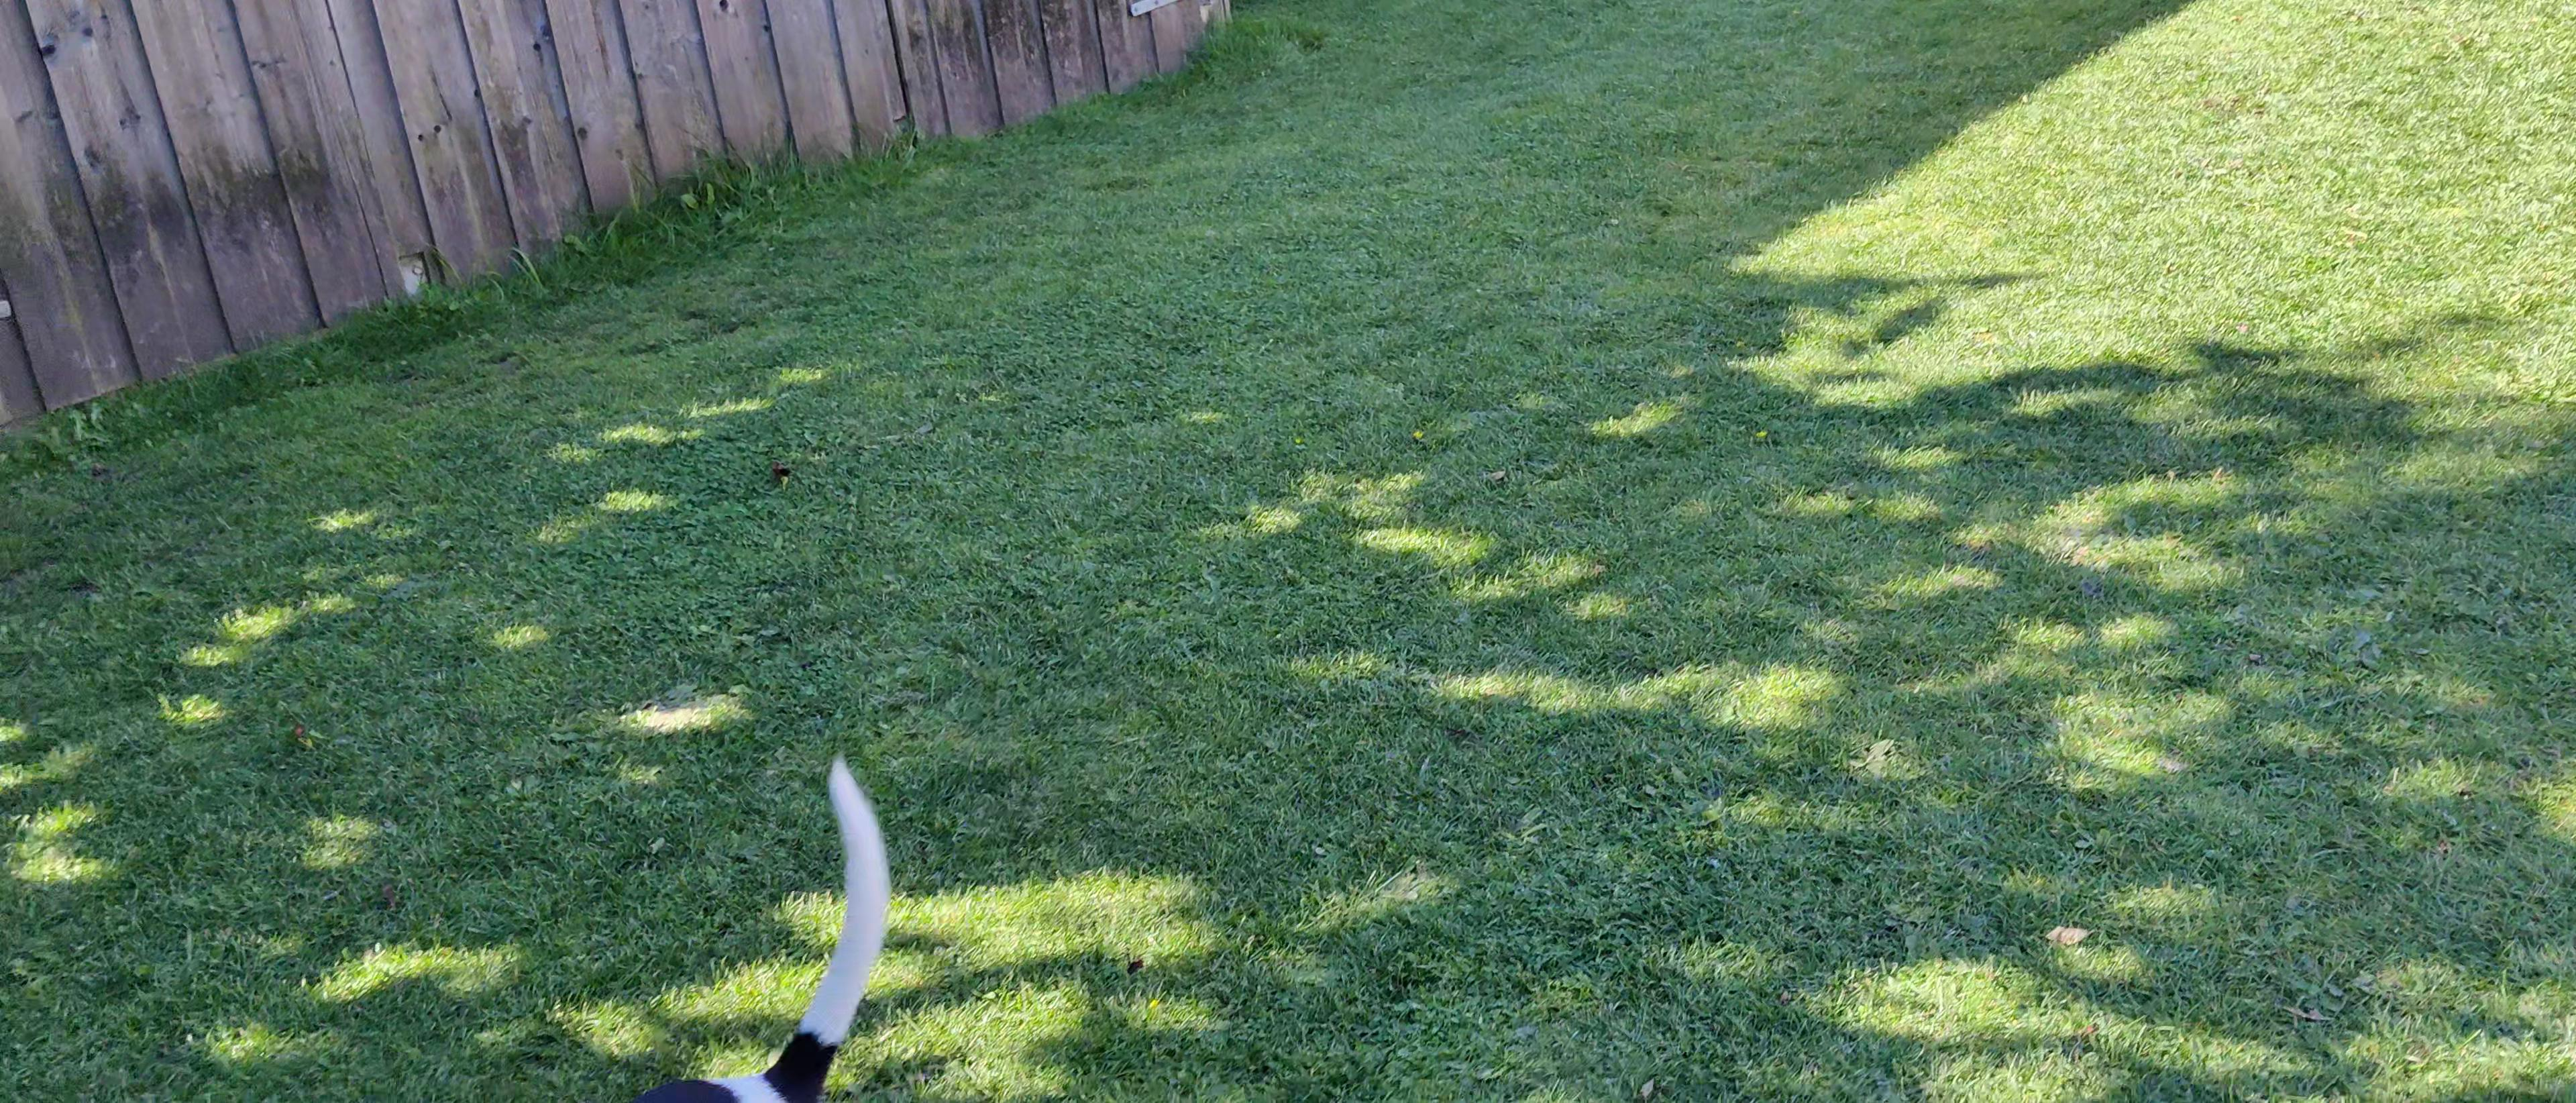Dog: (563, 733, 935, 1103)
